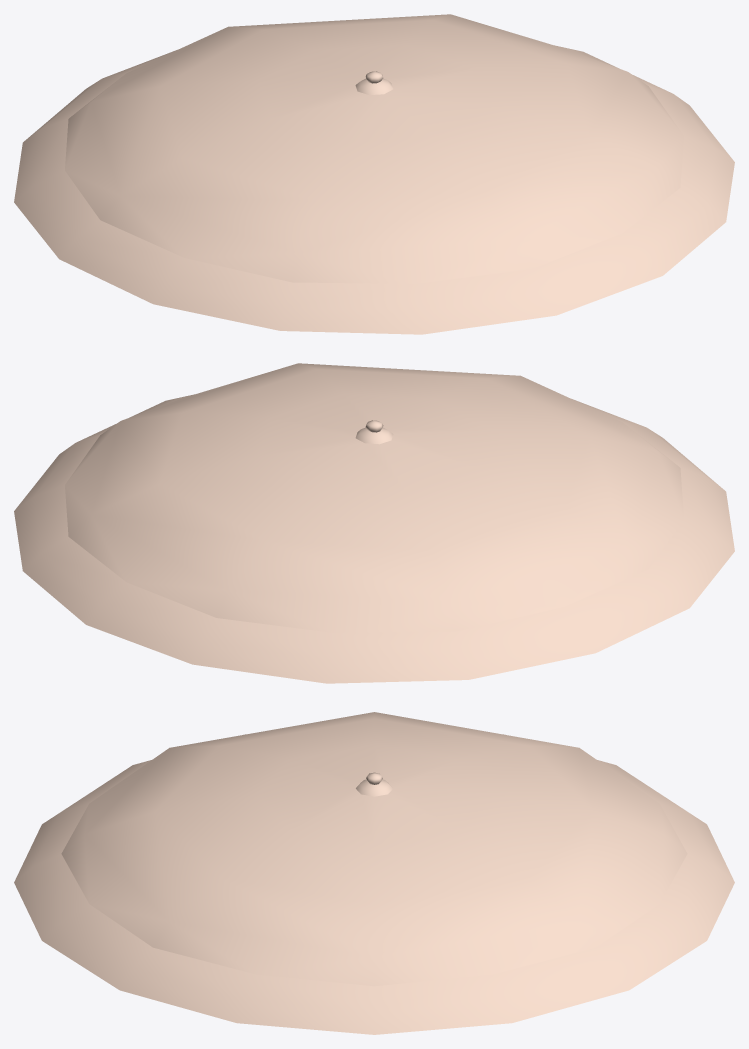
Rendered from Lampe1.fbx.
3 renders of one model, top to bottom at view 1: azimuth 30°, elevation 25°; view 2: azimuth 150°, elevation 25°; view 3: azimuth 270°, elevation 25°, orthographic.
Visible parts, largest first — view 1: Lampe1; view 2: Lampe1; view 3: Lampe1.
Boxes of the visible parts, x1,y1,x2,y2 form: Lampe1: (14, 14, 734, 334); Lampe1: (14, 363, 734, 683); Lampe1: (14, 712, 734, 1034).
Bounding box in the file's own units: 0.5172 × 0.0861 × 0.5172.
